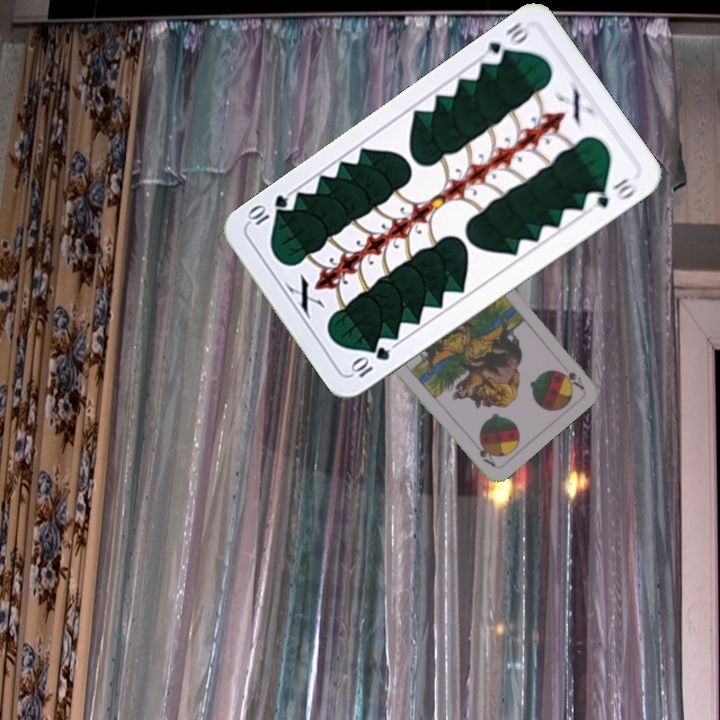G10: (478, 18, 533, 68), (347, 342, 393, 381)
SA: (558, 367, 587, 392)
